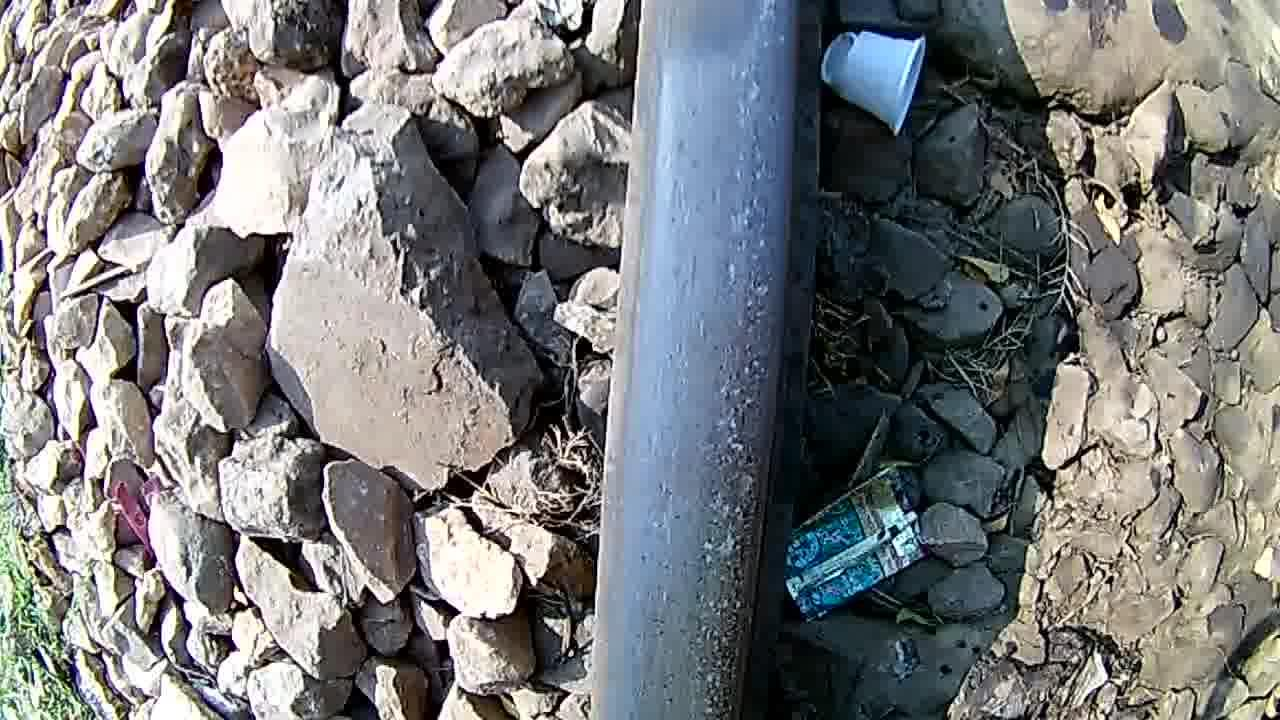bolt_missing: (608, 0, 792, 205)
